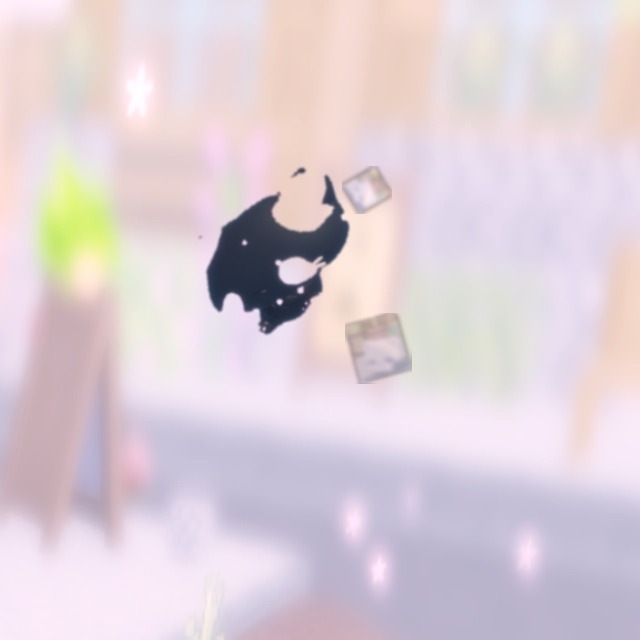urso_branco: (345, 313, 412, 384), (342, 166, 392, 214)
urso_preto: (144, 119, 413, 385)
